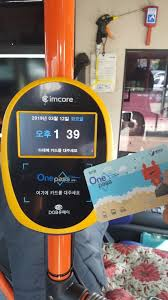terminal: (2, 75, 114, 237)
